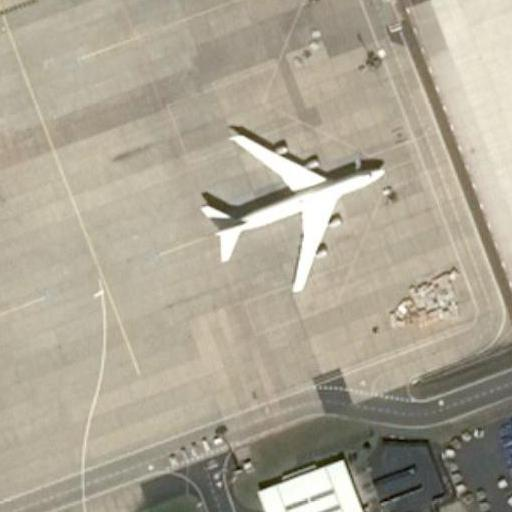Aircraft: (188, 104, 390, 291)
